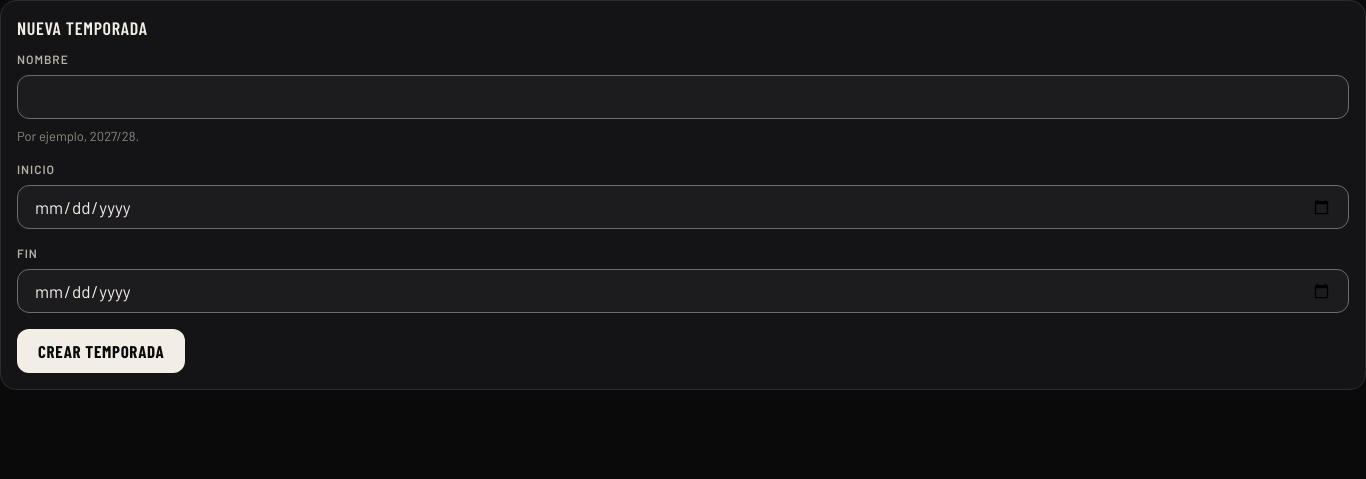
Test: SeasonEditor · una temporada nueva › si la acción lanza, tampoco se queda sin avisar, ni enseña el error técnico
The image size is (1366, 479).
Click the button "Crear temporada". click: (101, 351)
box: left=17, top=329, right=185, bottom=373
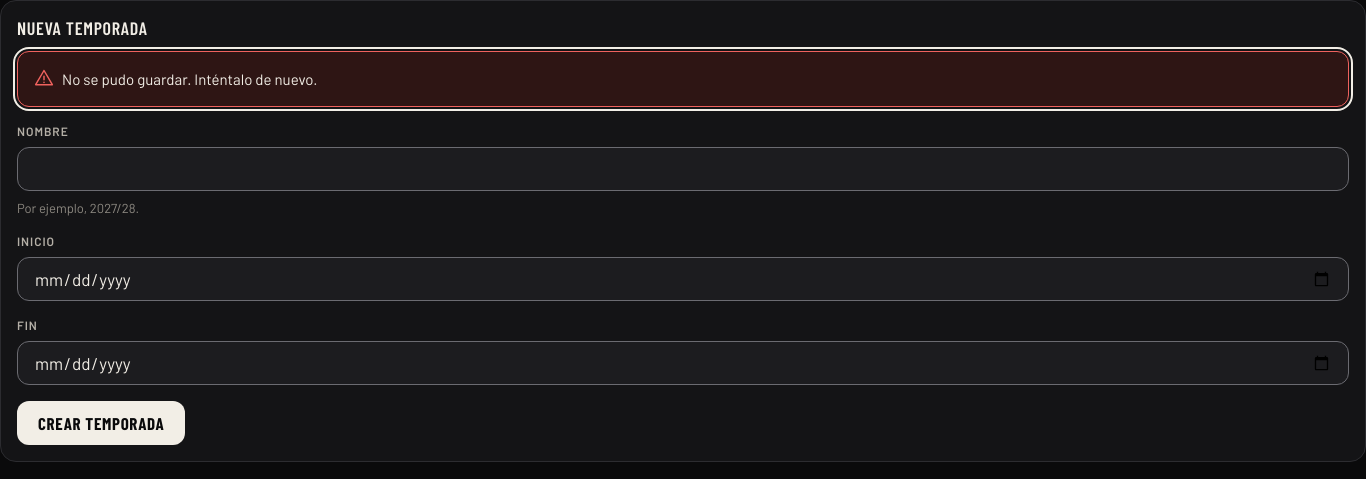
Expected: the message does not show "fetch failed", left=17, top=51, right=1349, bottom=107
Now the message reads "No se pudo guardar. Inténtalo de nuevo.", box left=62, top=70, right=318, bottom=88
